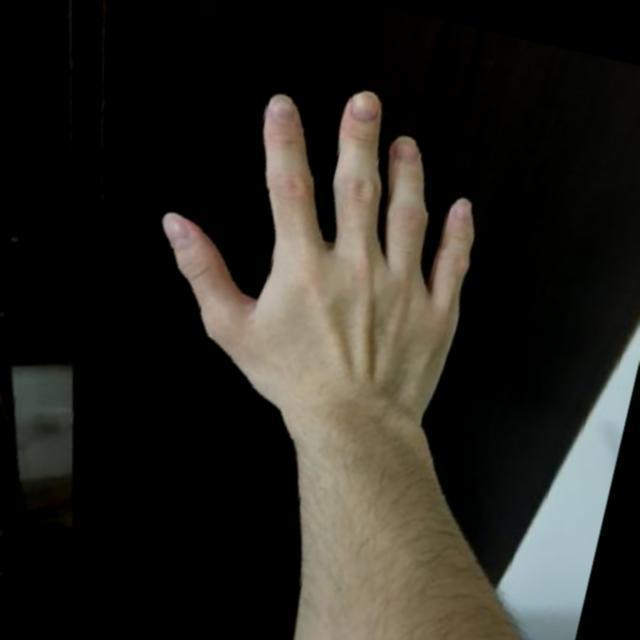hand: (105, 36, 532, 475)
